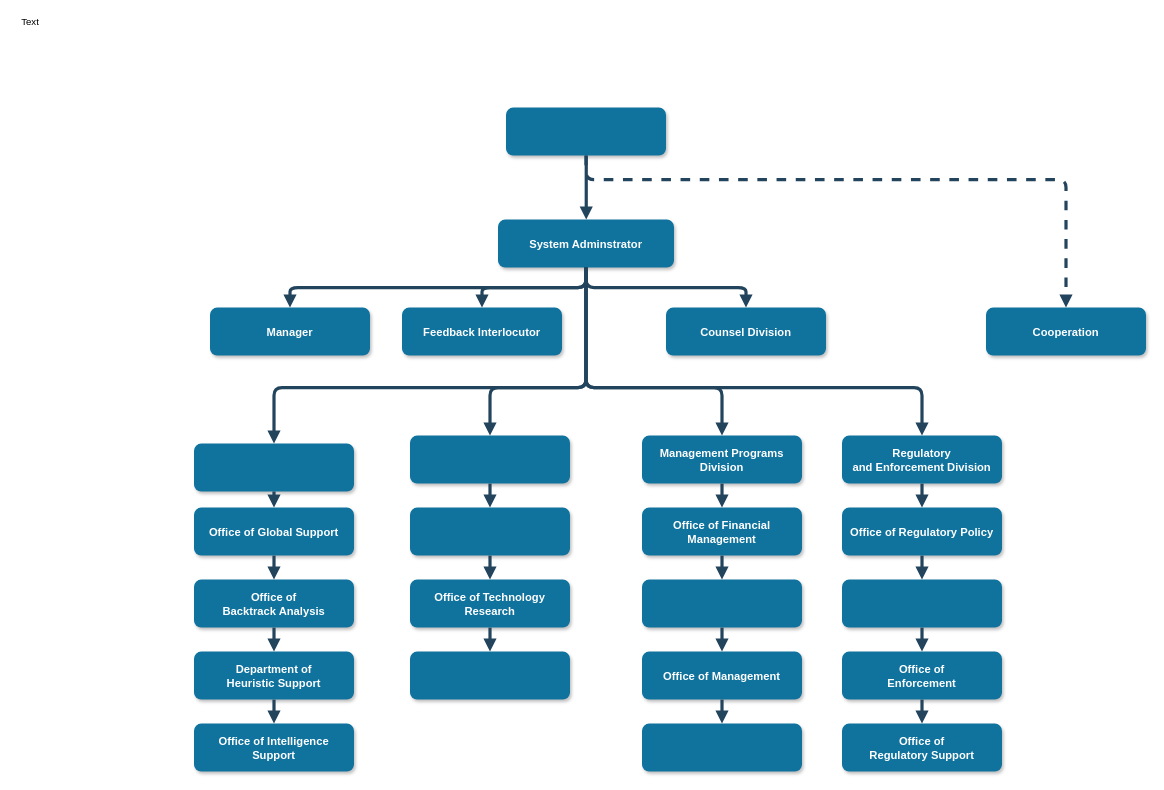
The diagram is 1164 pixels wide and 790 high, and some of its shapes have lost their labels. The centre of each missing label's shape, as x and y in pixels:
"Analysis Division" goes at (x=274, y=468).
"Database Administration" goes at (x=490, y=532).
"IT Division" goes at (x=490, y=460).
"Office Compliance" goes at (x=922, y=604).
"Office of Data Services" goes at (x=490, y=676).
"Office of Human Resources" goes at (x=722, y=604).
"Office of Training Services" goes at (x=722, y=748).
"Super System Adminstrator" goes at (x=586, y=132).
